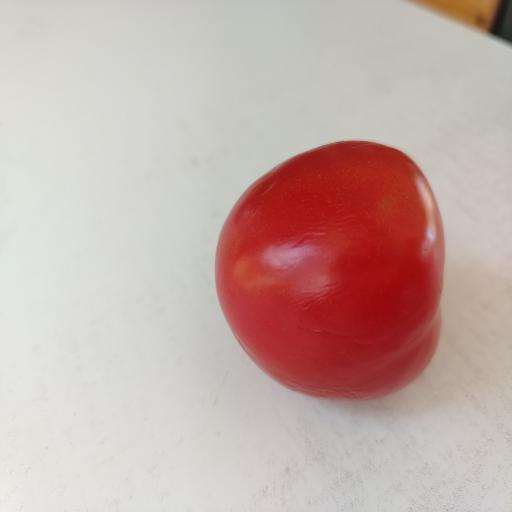overipe: (215, 141, 444, 399)
